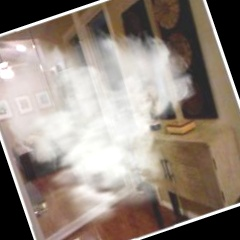smoke: (0, 34, 168, 205)
